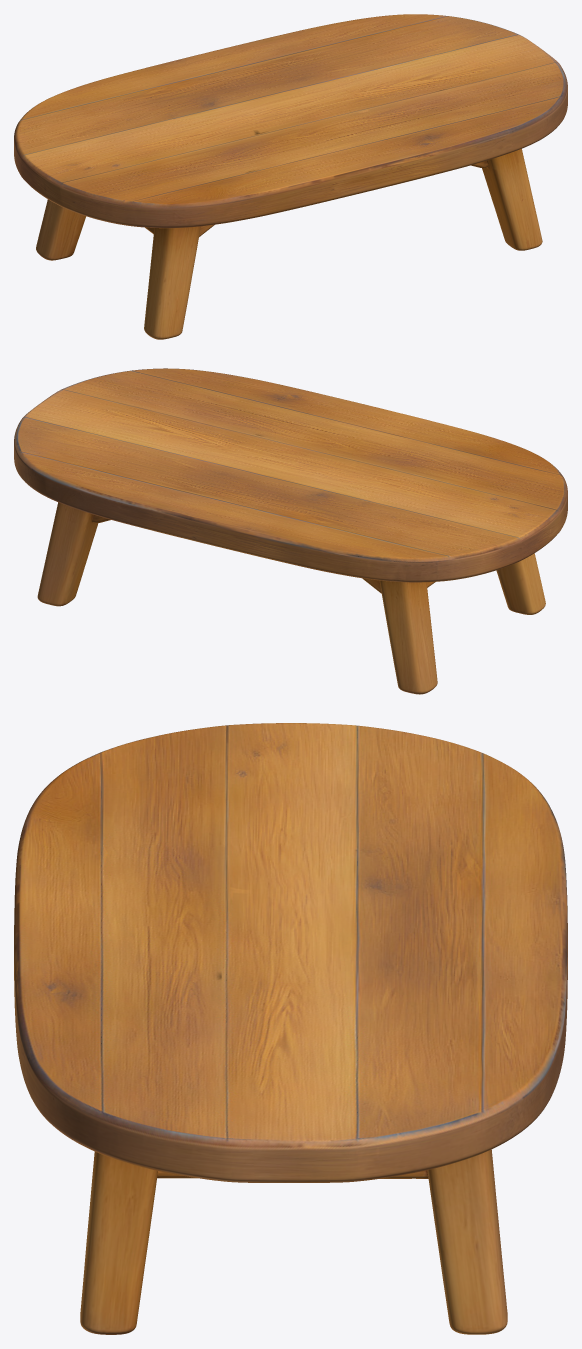
File: small_table.glb
3 views of the same model, one above another, from view 1: azimuth 30°, elevation 25°; view 2: azimuth 150°, elevation 25°; view 3: azimuth 270°, elevation 25° (orthographic). The views are drawn at different scales.
Visible parts, largest first — view 1: node_0; view 2: node_0; view 3: node_0.
Part boxes in pixels (box(x1,y1,x2,y2)): node_0: box(14, 14, 567, 339); node_0: box(14, 368, 567, 694); node_0: box(14, 723, 567, 1334).
Size of the model in its own units: 1.16 by 0.3093 by 0.6417.
1 material, 1 textured.
